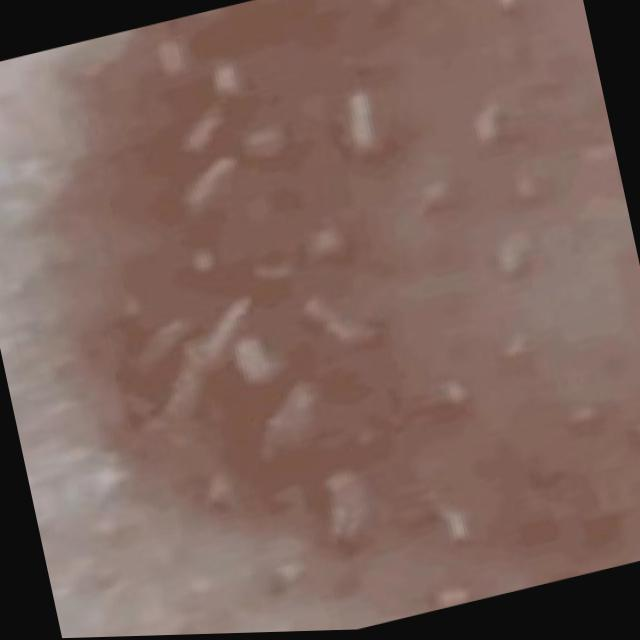whitehead: (117, 0, 639, 637)
